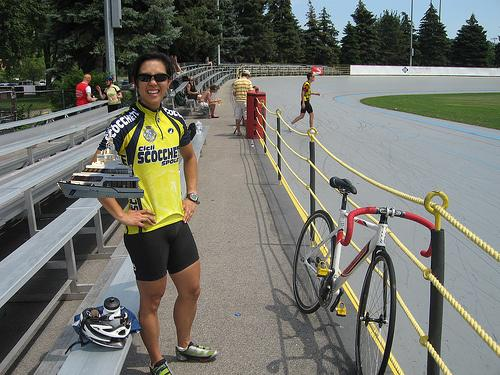tampered: (58, 133, 144, 198)
